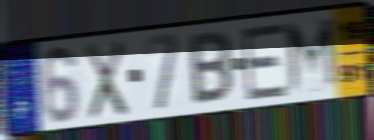6: (41, 43, 79, 126)
7: (144, 30, 180, 115)
B: (188, 30, 235, 108)
E: (240, 20, 290, 103)
M: (283, 15, 343, 99)
X: (84, 37, 129, 122)
